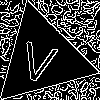V: (17, 32, 61, 85)
